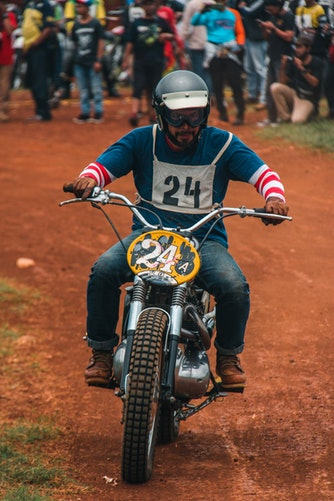helmet: (151, 73, 215, 130)
